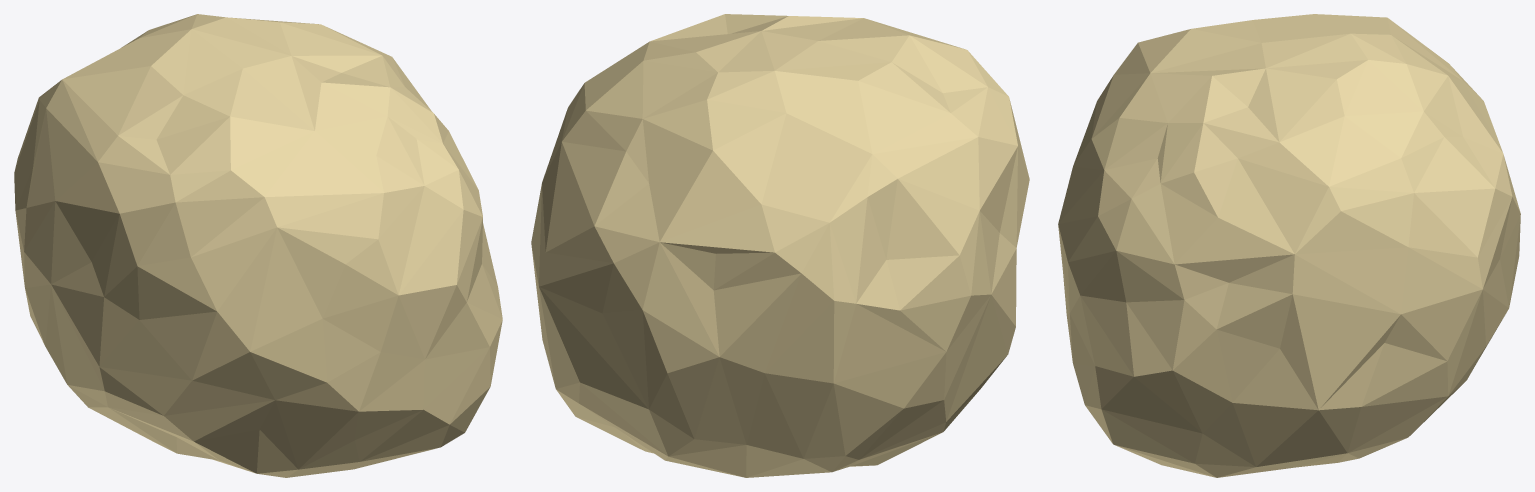
The model's file is Asteroid (106).fbx.
3 renders of one model, left to right at view 1: azimuth 30°, elevation 25°; view 2: azimuth 150°, elevation 25°; view 3: azimuth 270°, elevation 25°, orthographic. The views are drawn at different scales.
Visible parts, largest first — view 1: Asteroid199; view 2: Asteroid199; view 3: Asteroid199.
Boxes of the visible parts, x1=… form: Asteroid199: x1=14, y1=14, x2=502, y2=477; Asteroid199: x1=531, y1=14, x2=1029, y2=477; Asteroid199: x1=1058, y1=14, x2=1520, y2=477.
Bounding box in the file's own units: 305 × 288 × 316.
